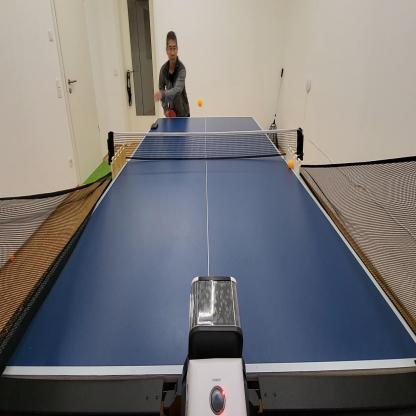Ball: (288, 158, 294, 169), (9, 252, 15, 262), (198, 98, 202, 108)
